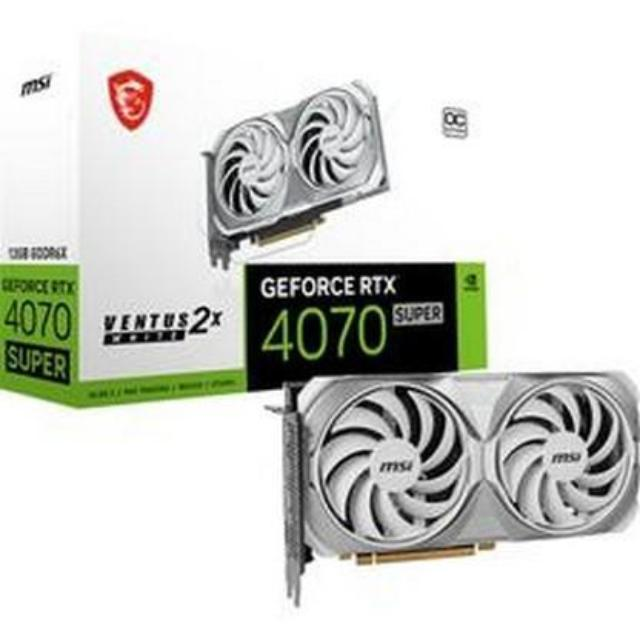GPU: (269, 358, 640, 574), (175, 84, 390, 264)
